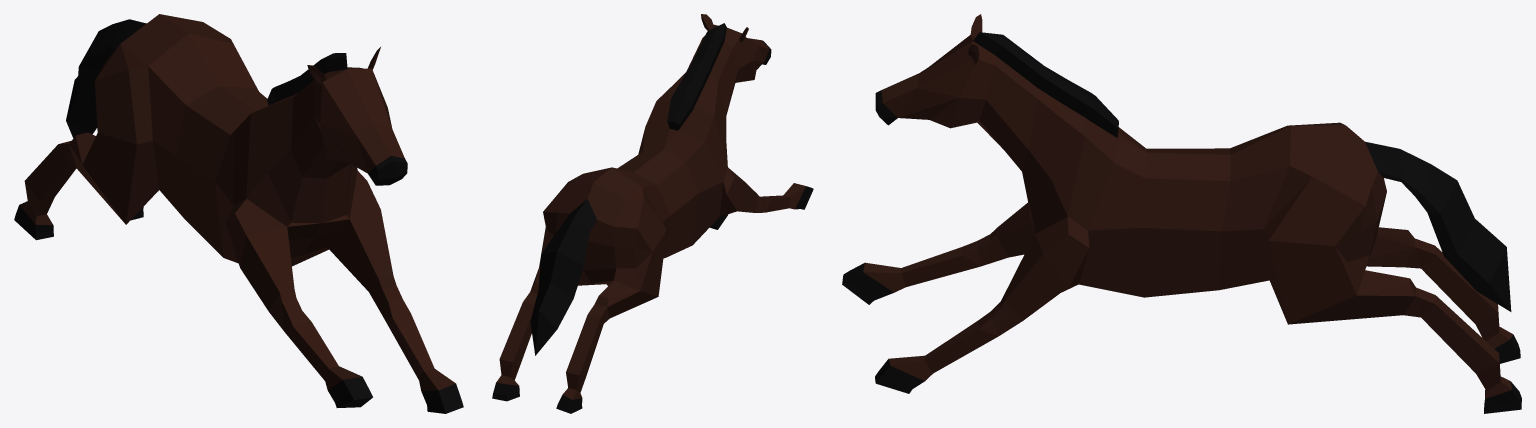
Rendered from Horse_000012.obj.
3 views of the same model, side by side, from view 1: azimuth 30°, elevation 25°; view 2: azimuth 150°, elevation 25°; view 3: azimuth 270°, elevation 25° (orthographic). The views are drawn at different scales.
Parts seen in each view (by area): view 1: Horse_Cylinder; view 2: Horse_Cylinder; view 3: Horse_Cylinder.
Part boxes in pixels (<box>): Horse_Cylinder: <box>14,14,463,413</box>; Horse_Cylinder: <box>492,14,813,413</box>; Horse_Cylinder: <box>842,14,1521,413</box>.
Bounding box in the file's own units: 2.56 × 6.02 × 10.36.
